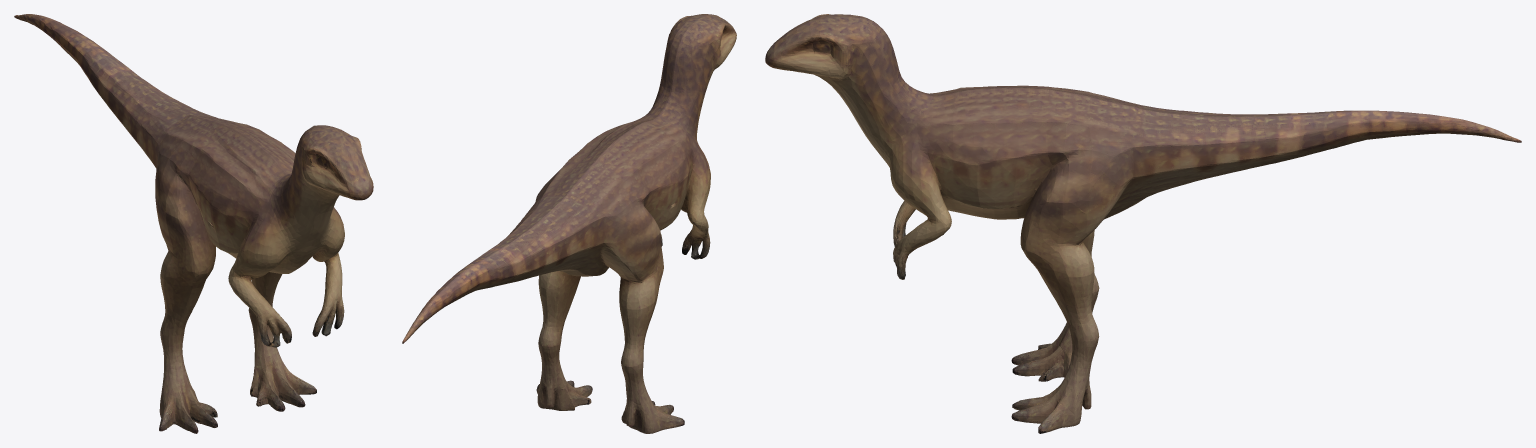
3 views of the same model, side by side, from view 1: azimuth 30°, elevation 25°; view 2: azimuth 150°, elevation 25°; view 3: azimuth 270°, elevation 25° (orthographic). The views are drawn at different scales.
Parts seen in each view (by area): view 1: world; view 2: world; view 3: world.
Boxes of the visible parts, bbox=[...] form: world: bbox=[14, 14, 373, 433]; world: bbox=[402, 14, 736, 433]; world: bbox=[765, 14, 1521, 433].
Size of the model in its own units: 0.2599 by 0.5495 by 0.9989.
1 material, 1 textured.
